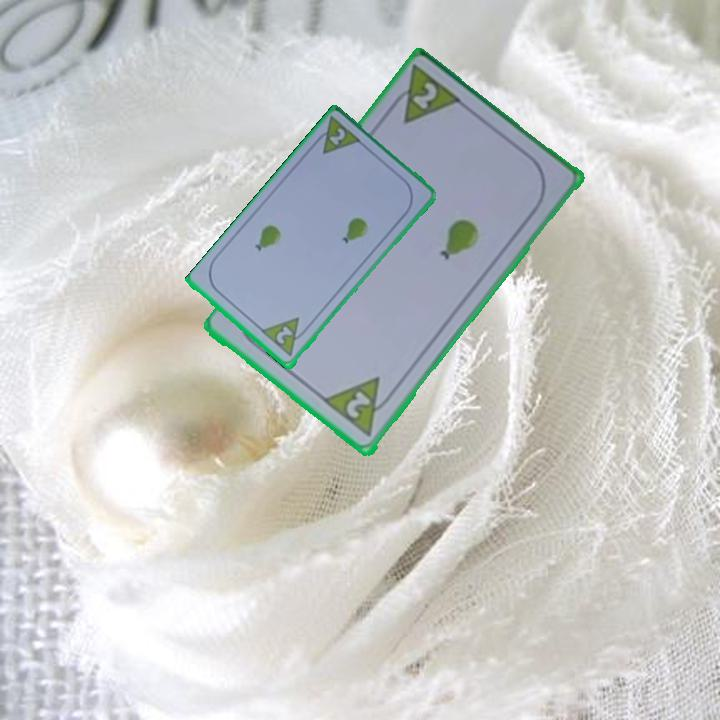2p: (383, 63, 466, 128), (320, 373, 399, 441), (308, 113, 365, 158), (259, 314, 312, 360)
